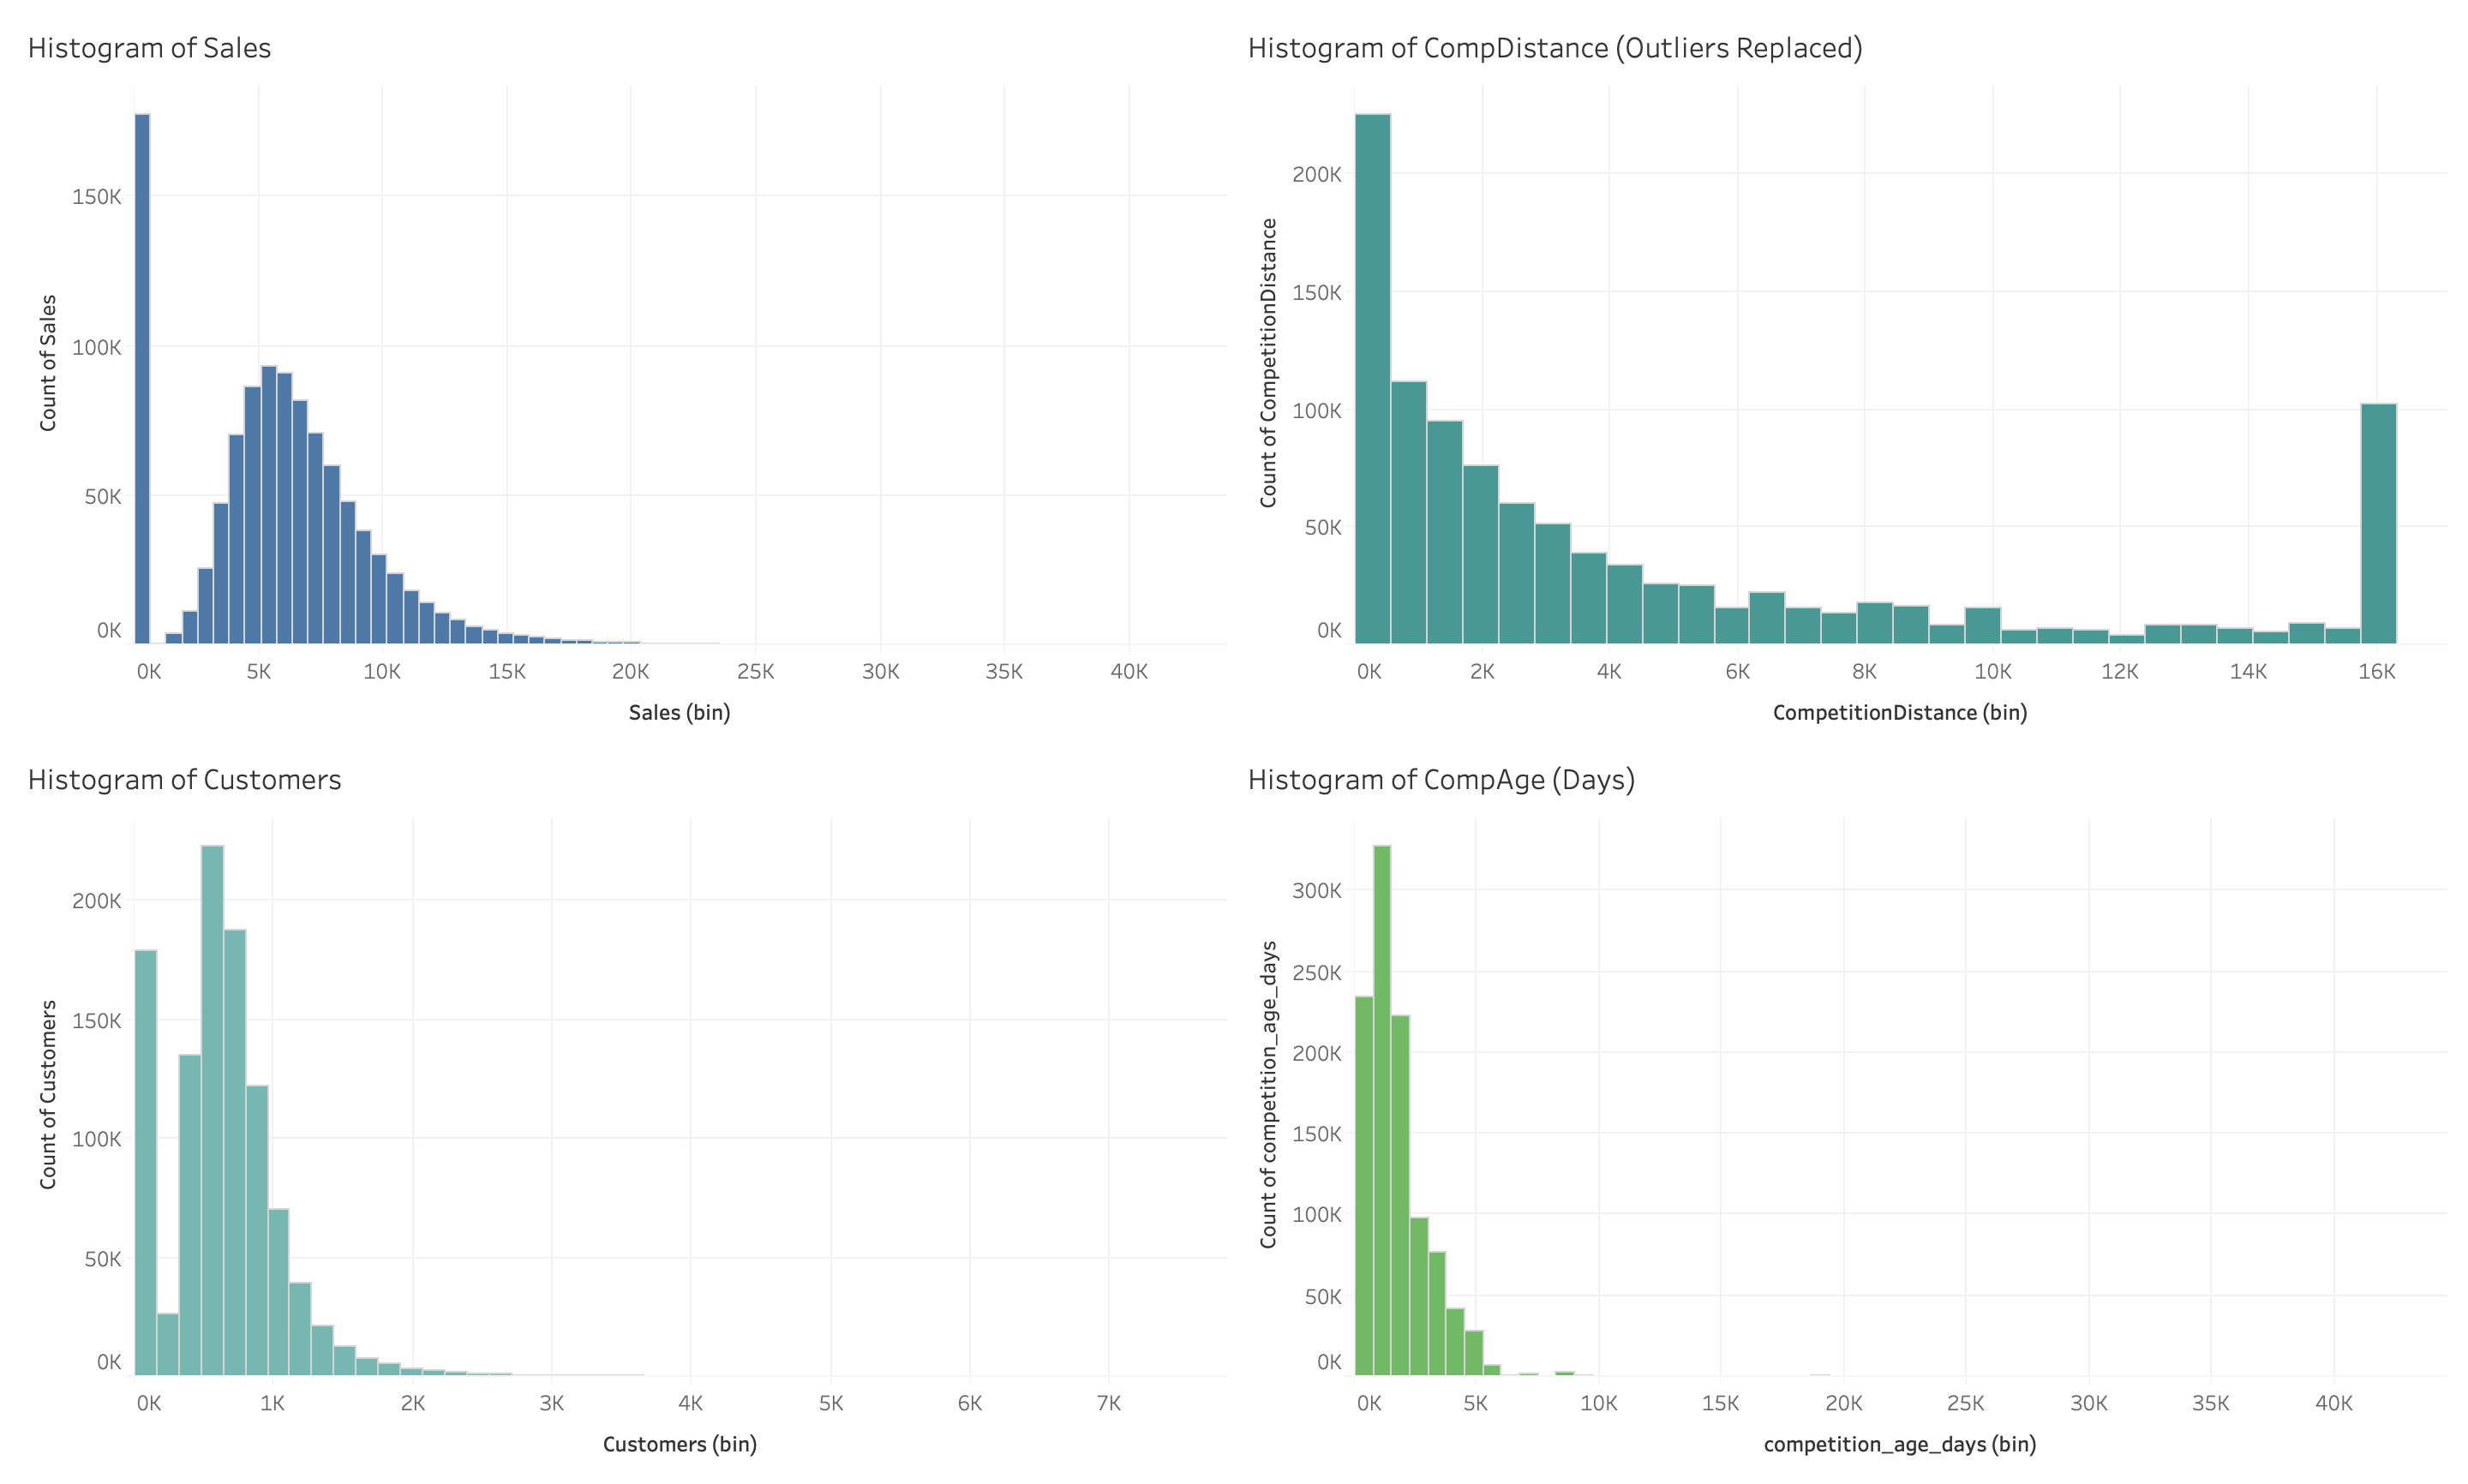

What the dashboard file says about the page in this screenshot:
{"tool":"tableau","page":{"name":"Dashboard 6","canvas":[1000,1000],"units":"permille","ordinal":10},"visuals":[{"type":"worksheet","title":"hist_sales","mark":"Automatic","rows":["Sales"],"cols":["Sales (bin)"],"box":[9.2,13.7,490.8,486.3]},{"type":"worksheet","title":"hist_distance","mark":"Automatic","rows":["CompetitionDistance"],"cols":["CompetitionDistance (bin)"],"box":[500,13.7,490.8,486.3]},{"type":"worksheet","title":"hist_customers","mark":"Automatic","rows":["Customers"],"cols":["Customers (bin)"],"box":[9.2,500,490.8,486.3]},{"type":"worksheet","title":"hist_age","mark":"Automatic","rows":["competition_age_days"],"cols":["competition_age_days (bin)"],"box":[500,500,490.8,486.3]}]}

Visuals, with their boxes on the dashboard's canvas, which has no fixed pixel size, in thousandths of its width and height (x1, y1, x2, y2). These are canvas units, not pixel positions in the 2468x1484 screenshot, which may show the page scaled, cropped or inside an application window:
"hist_sales" worksheet: (9,14,500,500)
"hist_distance" worksheet: (500,14,991,500)
"hist_customers" worksheet: (9,500,500,986)
"hist_age" worksheet: (500,500,991,986)
